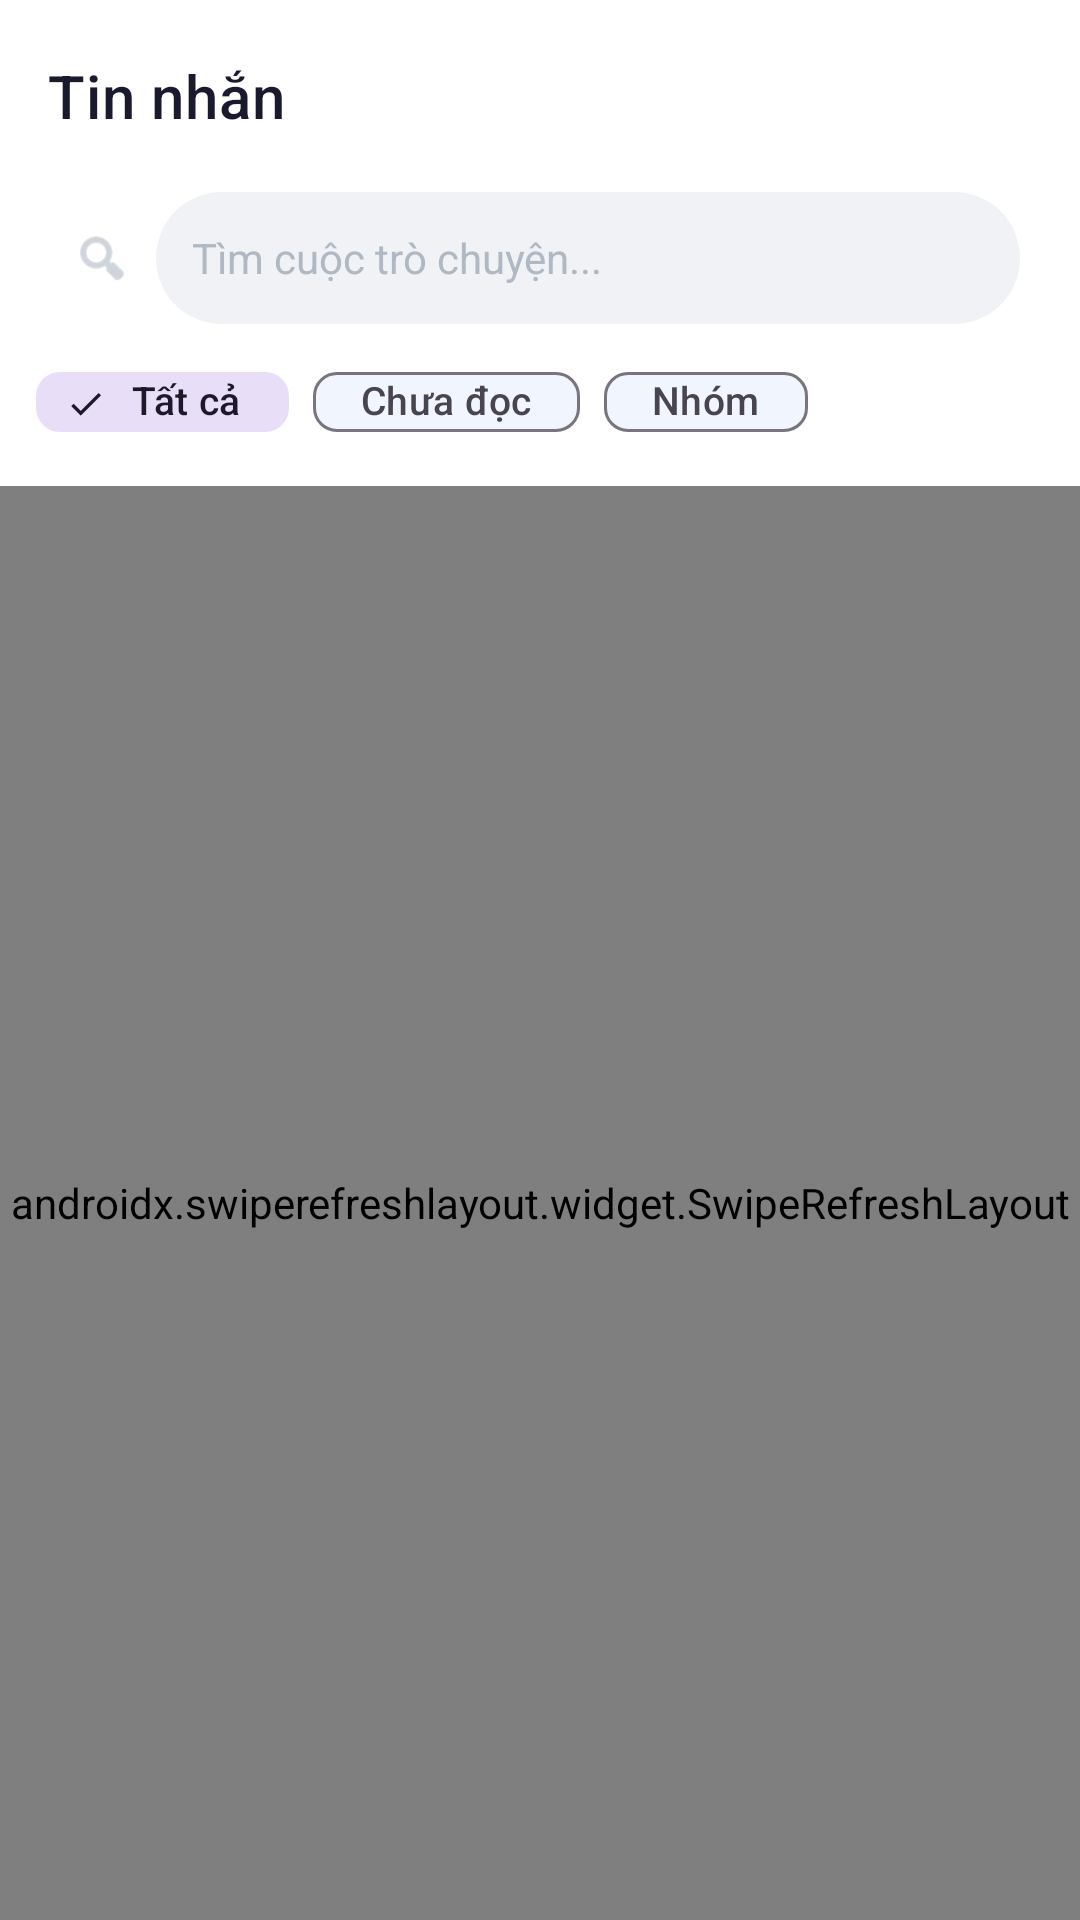

Named icons in this screenshot (1080px×1920px) and their centers, (x,y):
Tìm kiếm: (102,258)
